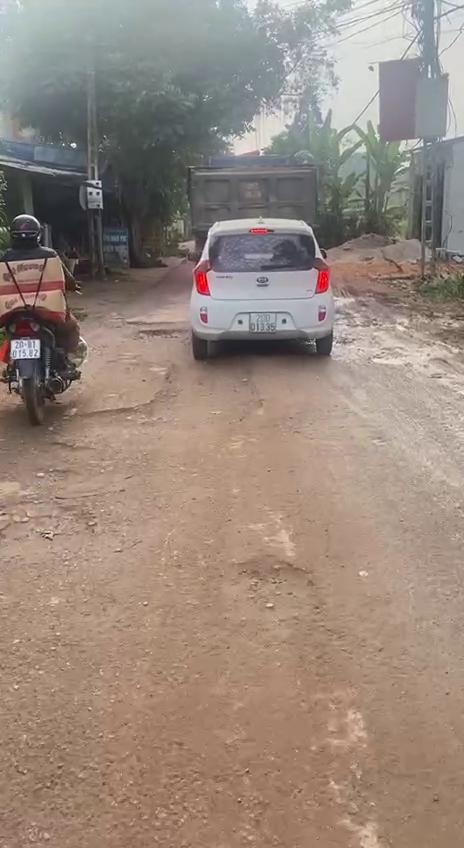pothole: (242, 550, 331, 660), (79, 392, 254, 432), (1, 489, 94, 542), (130, 326, 190, 348)
